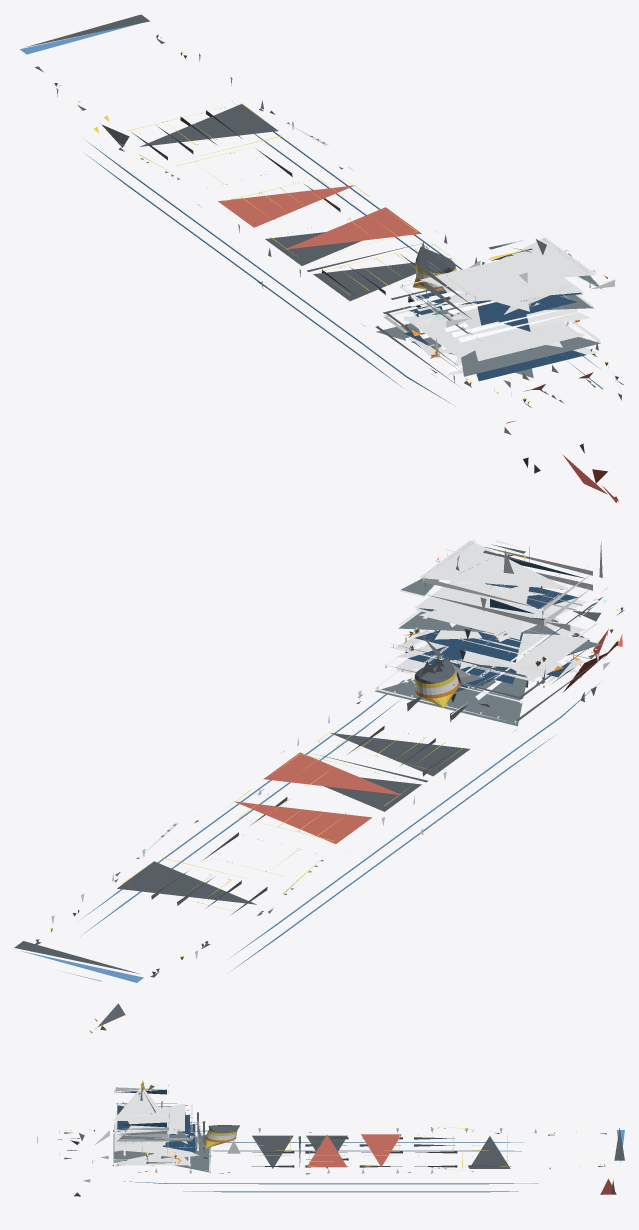
Rendered from ship_19.glb.
3 views of the same model, one above another, from view 1: azimuth 30°, elevation 25°; view 2: azimuth 150°, elevation 25°; view 3: azimuth 270°, elevation 25° (orthographic). The views are drawn at different scales.
Visible parts, largest first — view 1: TrueHelm_Ship_19; view 2: TrueHelm_Ship_19; view 3: TrueHelm_Ship_19.
Part boxes in pixels (x1,y1,x2,y2): TrueHelm_Ship_19: (20,14,623,502); TrueHelm_Ship_19: (14,540,624,1033); TrueHelm_Ship_19: (37,1080,624,1196).
Size of the model in its own units: 0.1396 by 0.1652 by 0.774.
